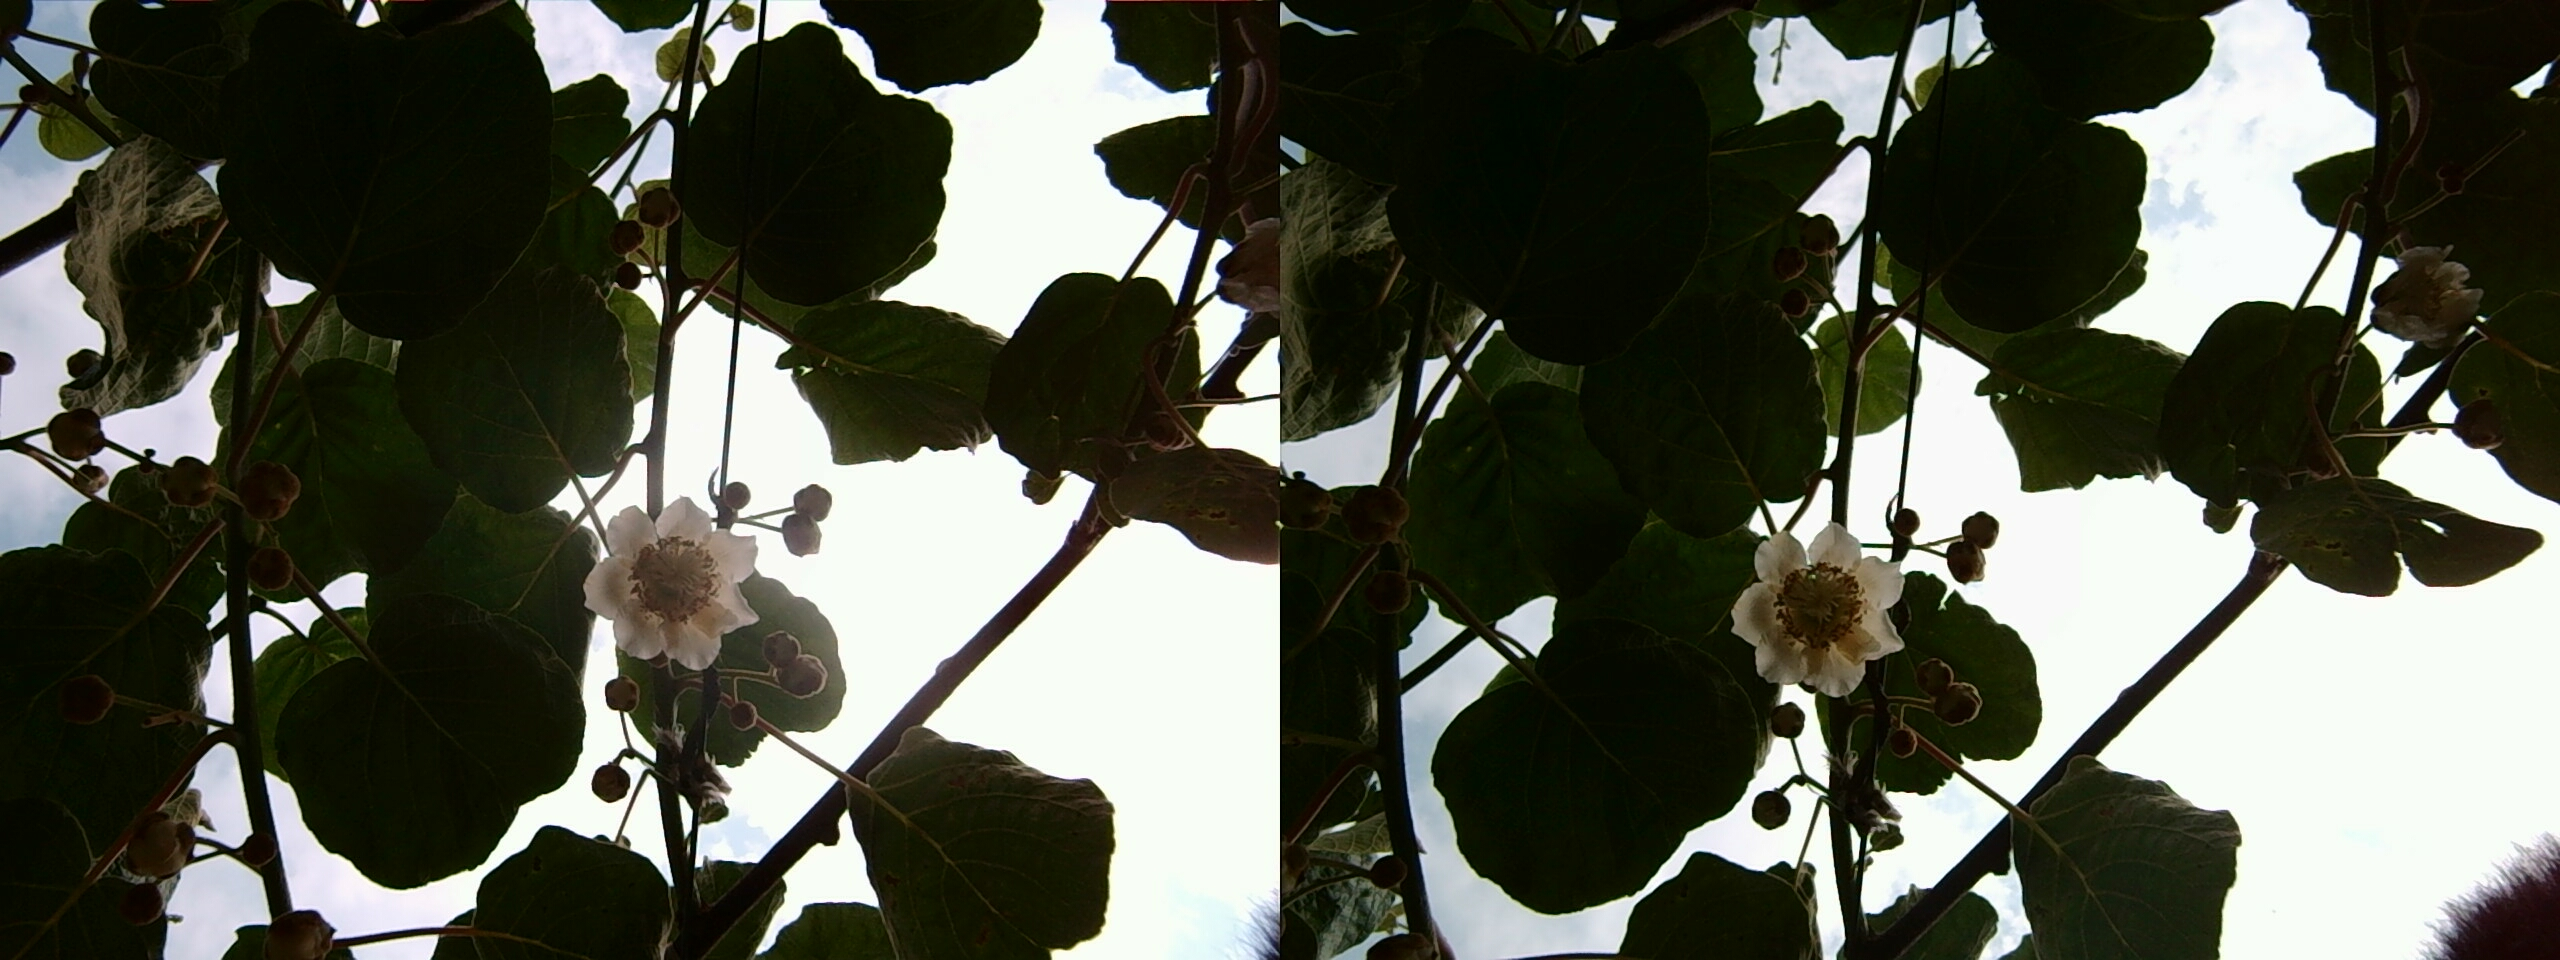flower: (575, 491, 787, 674), (1719, 518, 1915, 689)
